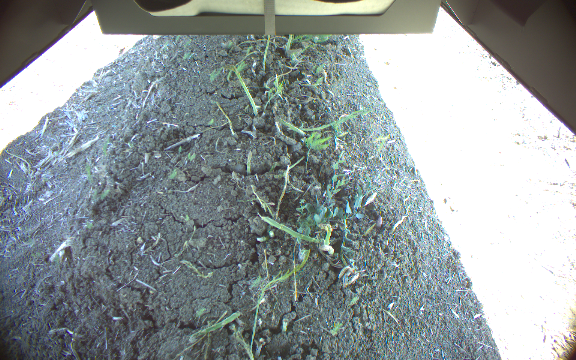aspa: (220, 62, 259, 117), (188, 311, 242, 345), (258, 215, 320, 243), (277, 117, 306, 136), (317, 222, 332, 248), (284, 34, 294, 53)
